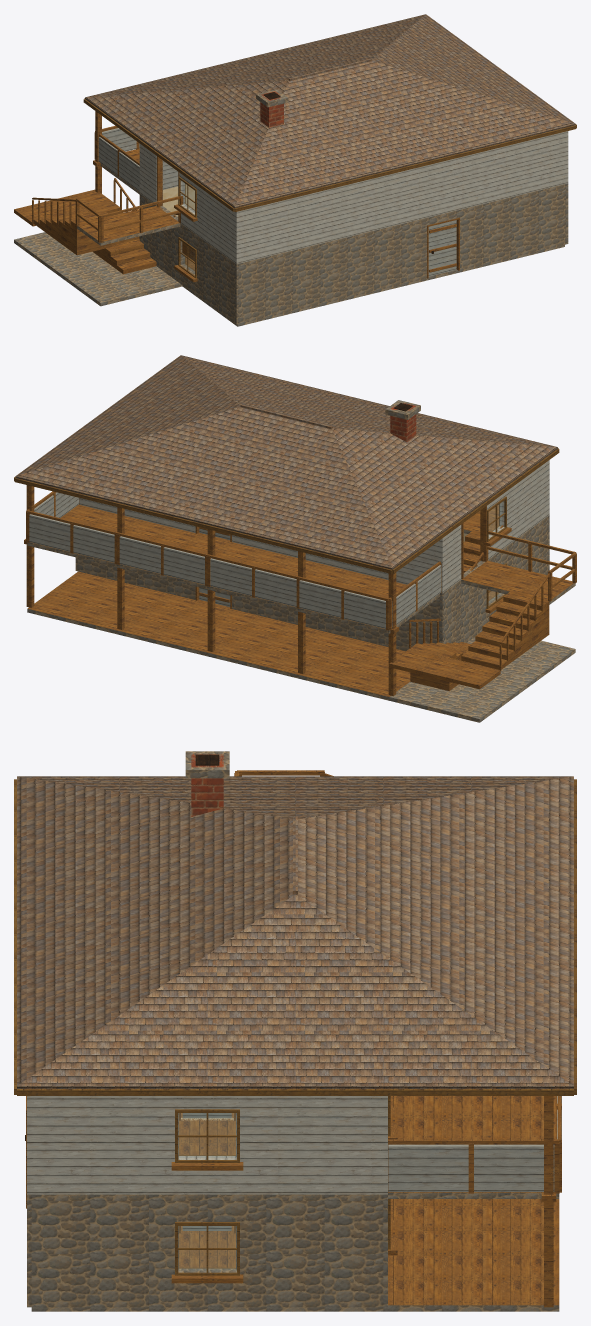
File: frontier-commanders-quarters.gltf
3 views of the same model, one above another, from view 1: azimuth 30°, elevation 25°; view 2: azimuth 150°, elevation 25°; view 3: azimuth 270°, elevation 25° (orthographic). The views are drawn at different scales.
Visible parts, largest first — view 1: roof-L2-shingle, exterior-L0-stone, exterior-L1-clapboard, floor-L0-stone, stairs-L0-wood, roof-trim-L2-trim, datum-band-L0-stone, guards-L1-wood, guards-L1-timber, walkway-L1-wood, door-L0-door, service-L2-brick (+2 smaller); view 2: roof-L2-shingle, floor-L0-wood, guards-L1-timber, exterior-L0-stone, stairs-L0-wood, exterior-L1-clapboard, floor-L0-stone, floor-L1-wood, guards-L1-wood, roof-trim-L2-trim, structure-L0-wood, walkway-L1-wood (+4 smaller); view 3: roof-L2-shingle, exterior-L0-stone, exterior-L1-clapboard, floor-L0-wood, floor-L1-wood, guards-L1-timber, roof-trim-L2-trim, floor-L0-stone, guards-L1-wood, datum-band-L0-stone, glazing-L0-glass, glazing-L1-glass (+9 smaller).
Part boxes in pixels (left/top/right/bottom): roof-L2-shingle: left=85, top=14, right=575, bottom=208; exterior-L0-stone: left=139, top=187, right=568, bottom=324; exterior-L1-clapboard: left=139, top=131, right=568, bottom=264; floor-L0-stone: left=14, top=232, right=564, bottom=326; stairs-L0-wood: left=14, top=178, right=194, bottom=274; roof-trim-L2-trim: left=83, top=98, right=576, bottom=211; datum-band-L0-stone: left=139, top=183, right=568, bottom=267; guards-L1-wood: left=75, top=125, right=183, bottom=242; guards-L1-timber: left=98, top=128, right=139, bottom=190; walkway-L1-wood: left=78, top=205, right=179, bottom=241; door-L0-door: left=428, top=220, right=456, bottom=276; service-L2-brick: left=260, top=91, right=283, bottom=127; roof-L2-shingle: left=15, top=355, right=557, bottom=569; floor-L0-wood: left=28, top=571, right=498, bottom=696; guards-L1-timber: left=29, top=492, right=441, bottom=628; exterior-L0-stone: left=75, top=519, right=549, bottom=651; stairs-L0-wood: left=389, top=525, right=549, bottom=691; exterior-L1-clapboard: left=79, top=460, right=549, bottom=593; floor-L0-stone: left=27, top=608, right=575, bottom=722; floor-L1-wood: left=30, top=504, right=498, bottom=628; guards-L1-wood: left=26, top=491, right=576, bottom=630; roof-trim-L2-trim: left=14, top=448, right=559, bottom=573; structure-L0-wood: left=24, top=539, right=398, bottom=696; walkway-L1-wood: left=462, top=560, right=573, bottom=600; roof-L2-shingle: left=17, top=776, right=573, bottom=1088; exterior-L0-stone: left=27, top=1201, right=387, bottom=1307; exterior-L1-clapboard: left=27, top=1096, right=387, bottom=1194; floor-L0-wood: left=179, top=1199, right=559, bottom=1305; floor-L1-wood: left=179, top=1096, right=556, bottom=1192; guards-L1-timber: left=388, top=1096, right=561, bottom=1191; roof-trim-L2-trim: left=14, top=779, right=576, bottom=1095; floor-L0-stone: left=31, top=1305, right=559, bottom=1311; guards-L1-wood: left=234, top=770, right=561, bottom=1193; datum-band-L0-stone: left=27, top=1194, right=387, bottom=1200; glazing-L0-glass: left=178, top=1226, right=236, bottom=1270; glazing-L1-glass: left=178, top=1113, right=236, bottom=1157.
Size of the model in its own units: 15.35 by 6.19 by 9.6.
Materials: 11 (10 with a texture image).
